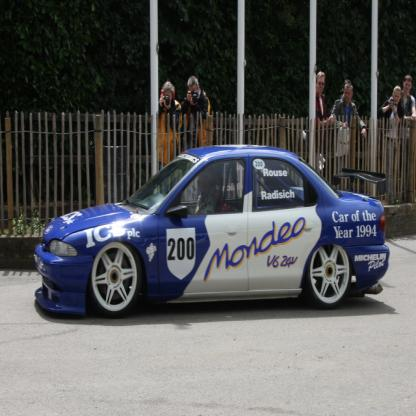Car: (36, 144, 392, 323)
